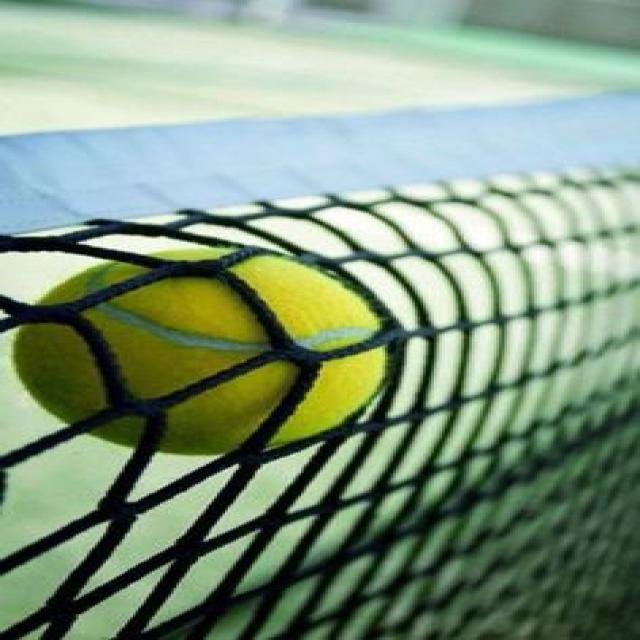tennis: (15, 248, 393, 461)
